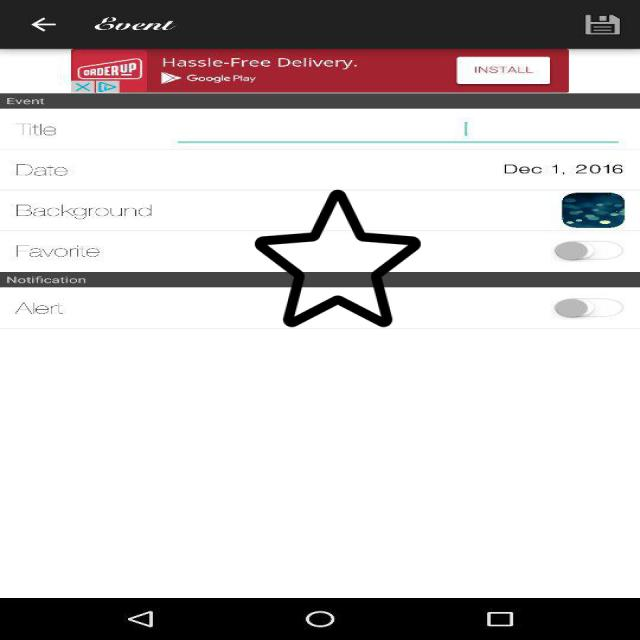forced continuity: (255, 187, 421, 330)
